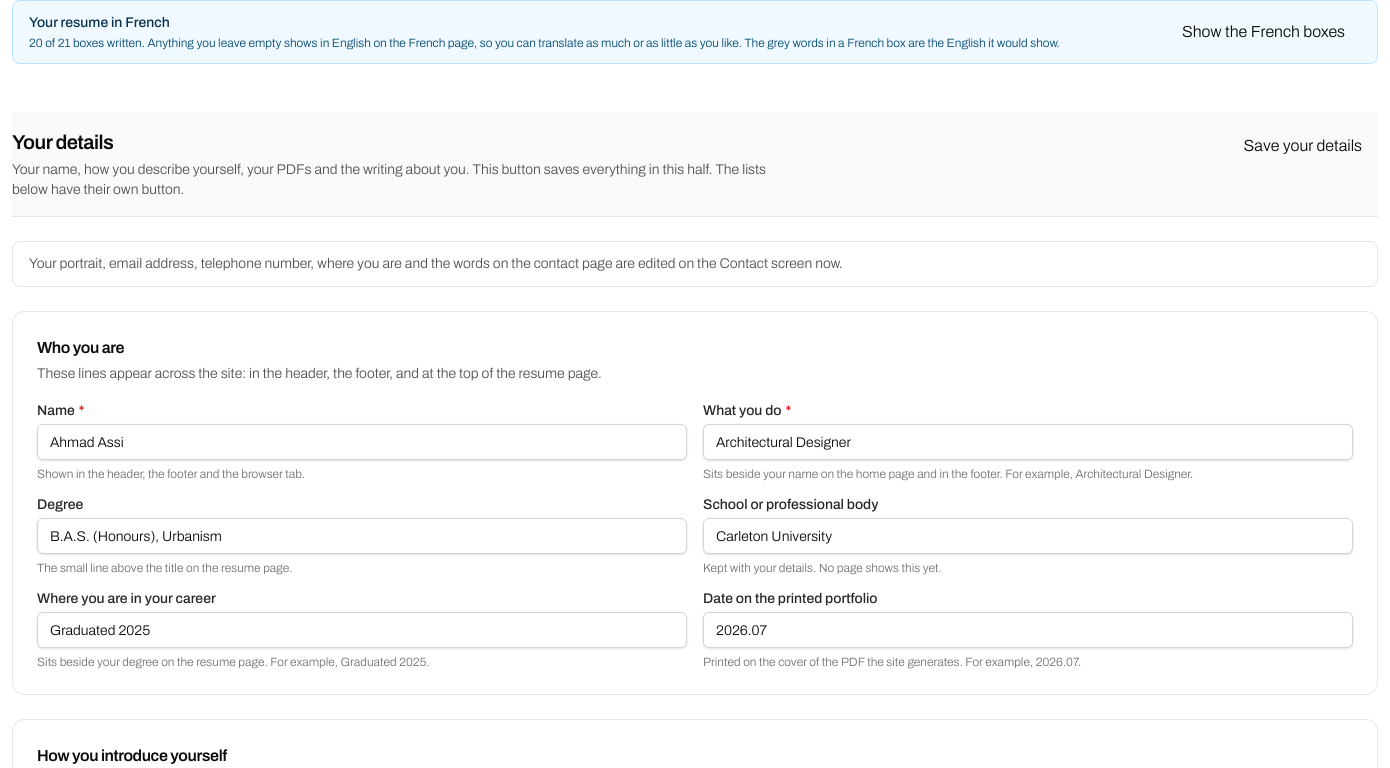
Scenario: the French boxes › opens with the French that is already written
The width and height of the screenshot is (1390, 768).
Click the button "Show the French boxes" at (1263, 32), box [1166,14,1361,50]
(page scrolled)
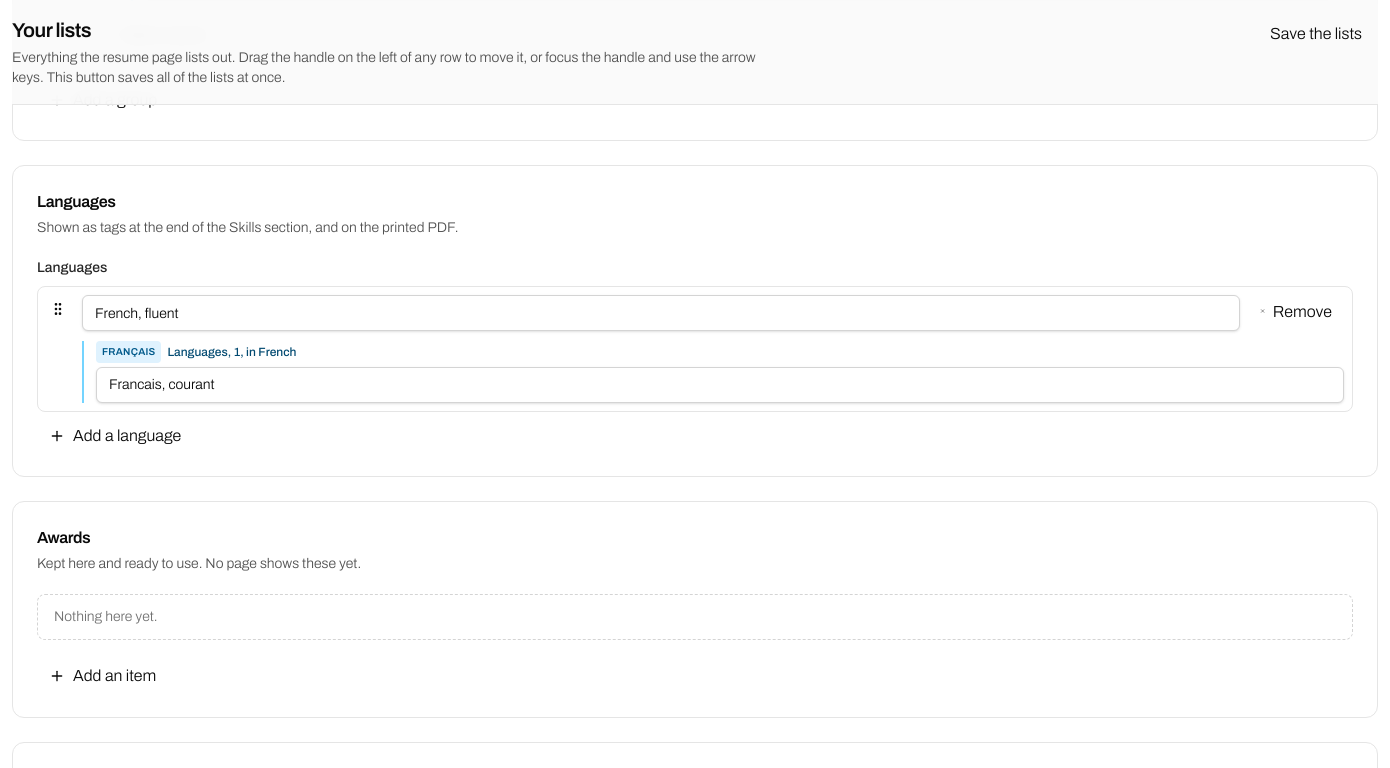
Result: the field labelled "Languages, 1, in French" holds "Francais, courant" at [96,367,1344,403]
